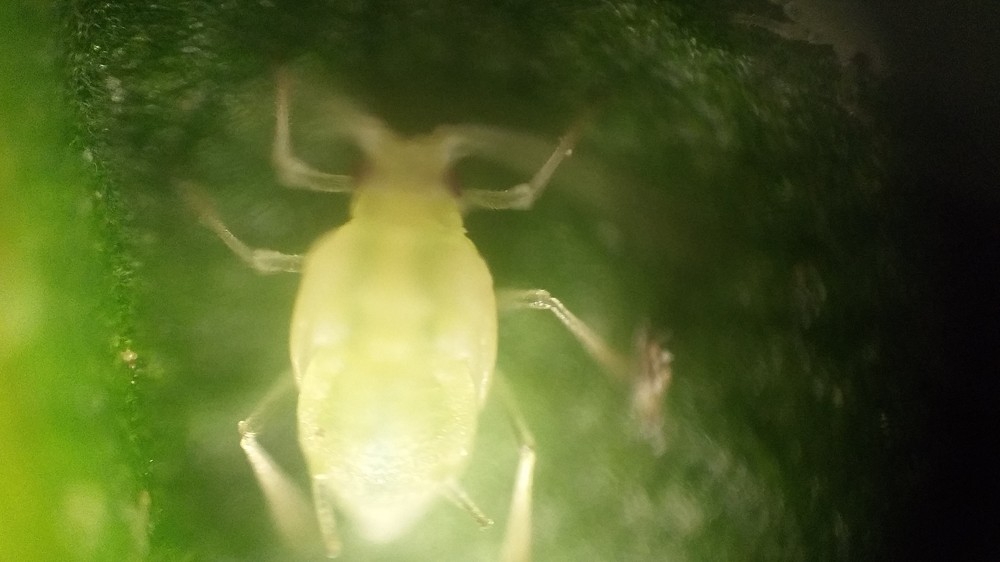Pulgon: (173, 61, 646, 562)
